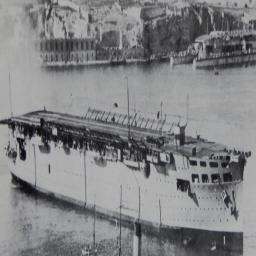Portanaves: (1, 93, 246, 255)
